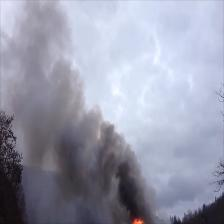smoke: (37, 83, 95, 156), (106, 151, 136, 202)
